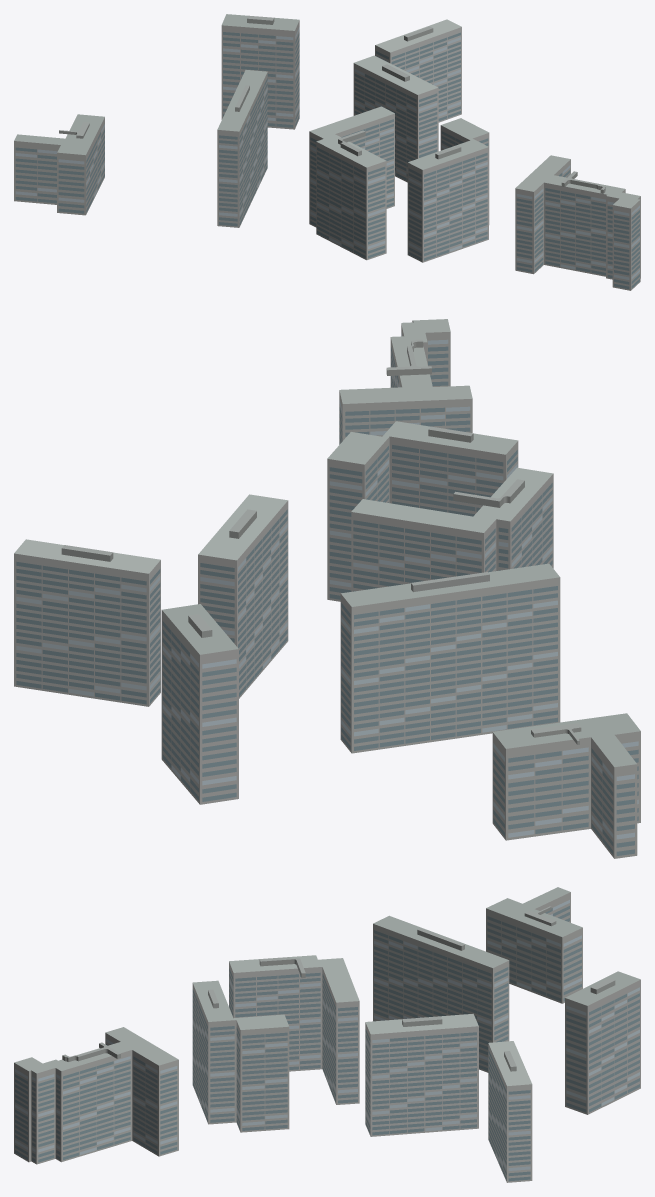
File: apt-a12012203.glb
3 views of the same model, one above another, from view 1: azimuth 30°, elevation 25°; view 2: azimuth 150°, elevation 25°; view 3: azimuth 270°, elevation 25° (orthographic). The views are drawn at different scales.
Visible parts, largest first — view 1: apt-a12012203; view 2: apt-a12012203; view 3: apt-a12012203.
Boxes of the visible parts, x1,y1,x2,y2 form: apt-a12012203: (14, 14, 640, 290); apt-a12012203: (14, 319, 640, 858); apt-a12012203: (14, 887, 640, 1182).
Bounding box in the file's own units: 248 × 57.3 × 286.
